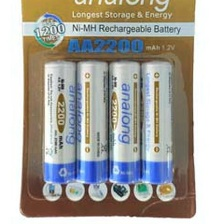battery: (135, 57, 176, 188), (72, 57, 110, 186), (40, 57, 78, 186), (106, 57, 142, 188)
